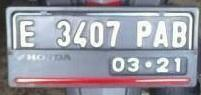0: (88, 20, 105, 48)
3: (53, 19, 71, 47)
4: (70, 20, 90, 48)
7: (104, 20, 123, 48)
A: (151, 20, 172, 48)
B: (170, 18, 188, 48)
E: (17, 17, 38, 49)
P: (131, 20, 152, 48)
